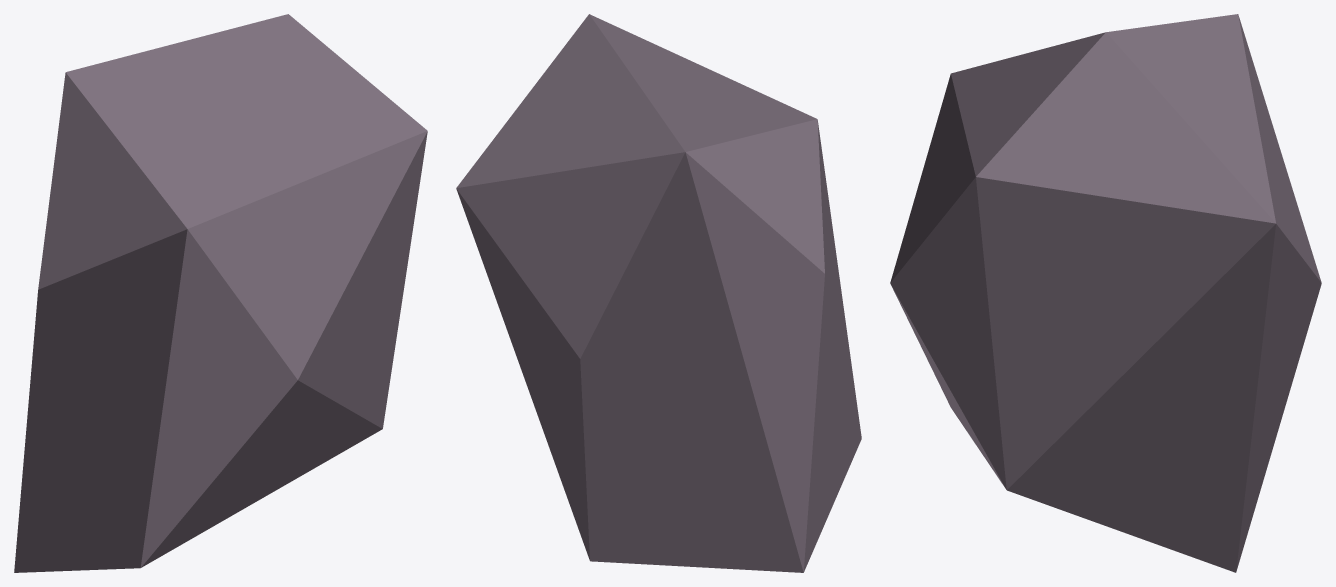
Rendered from Small_stone_v02.fbx.
3 renders of one model, left to right at view 1: azimuth 30°, elevation 25°; view 2: azimuth 150°, elevation 25°; view 3: azimuth 270°, elevation 25°, orthographic. The views are drawn at different scales.
Parts seen in each view (by area): view 1: Small_stone_v02; view 2: Small_stone_v02; view 3: Small_stone_v02.
Boxes of the visible parts, bbox=[...] form: Small_stone_v02: bbox=[14, 14, 427, 572]; Small_stone_v02: bbox=[456, 14, 861, 572]; Small_stone_v02: bbox=[890, 14, 1321, 572].
Bounding box in the file's own units: 10.27 × 15.49 × 10.58.
1 material, 1 textured.
